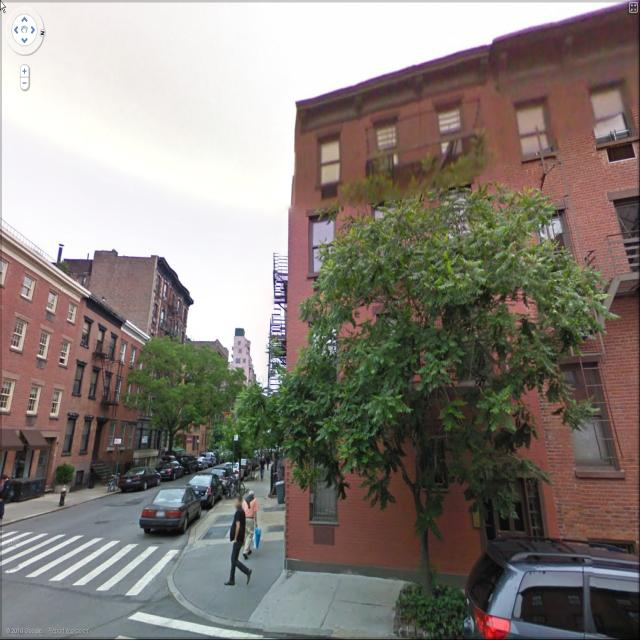b_1: (0, 213, 71, 445), (52, 296, 120, 478), (227, 324, 261, 377)
b_2: (266, 0, 640, 608), (128, 254, 192, 472), (104, 320, 150, 484), (185, 338, 232, 458)
